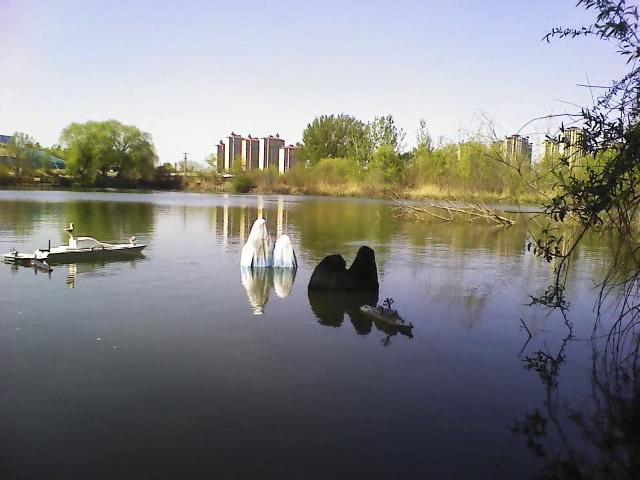aircraft_carrier: (4, 242, 40, 261)
boat: (38, 221, 151, 263)
iceberg: (236, 208, 301, 271)
rock: (309, 241, 382, 294)
submarine: (27, 255, 52, 275)
warship: (363, 291, 416, 335)
